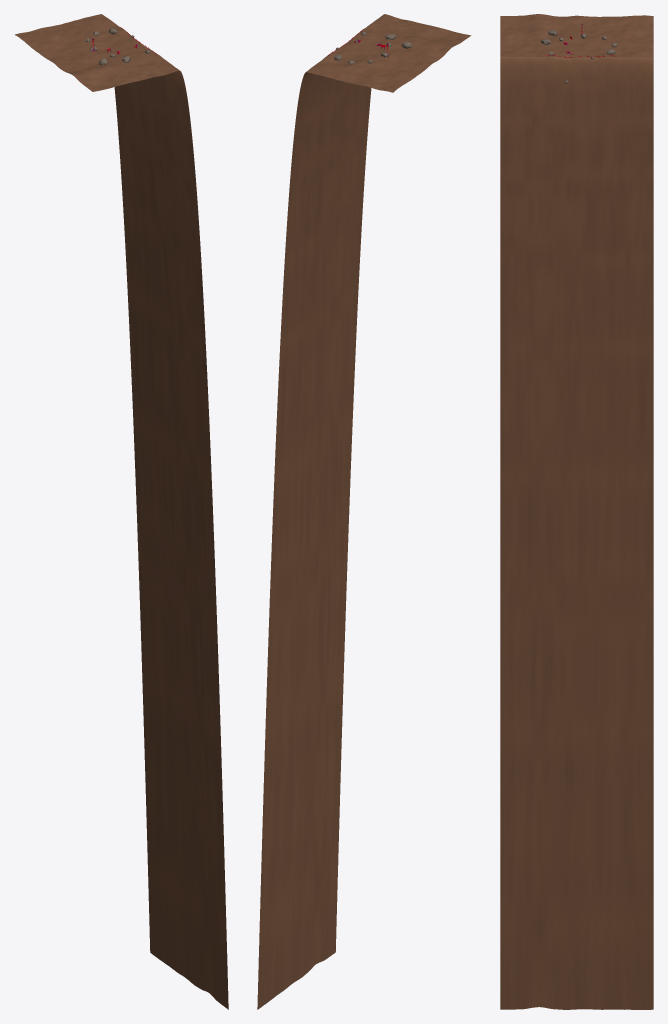
File: menu_set.glb
3 views of the same model, side by side, from view 1: azimuth 30°, elevation 25°; view 2: azimuth 150°, elevation 25°; view 3: azimuth 270°, elevation 25° (orthographic). The views are drawn at different scales.
Parts seen in each view (by area): view 1: Ground; view 2: Ground; view 3: Ground.
Part boxes in pixels (x1,y1,x2,y2): Ground: [15, 14, 228, 1009]; Ground: [257, 14, 471, 1009]; Ground: [500, 14, 653, 1009].
Size of the model in its own units: 90 by 610 by 90.
